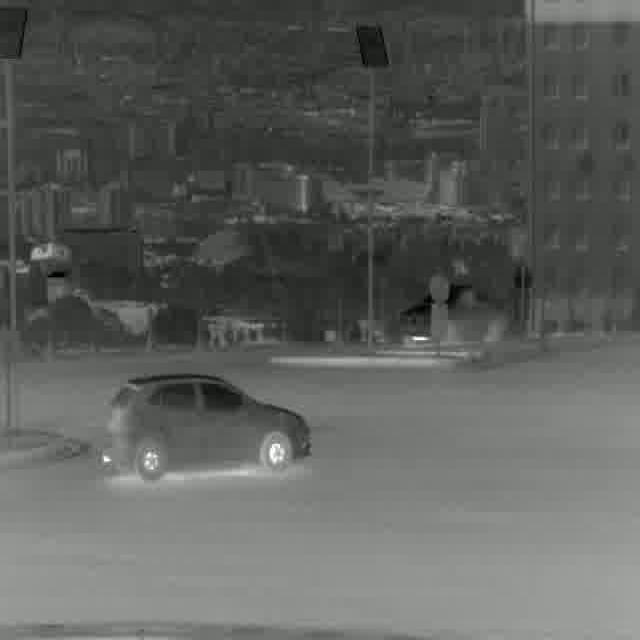Car: (104, 373, 310, 480), (401, 284, 492, 343)
